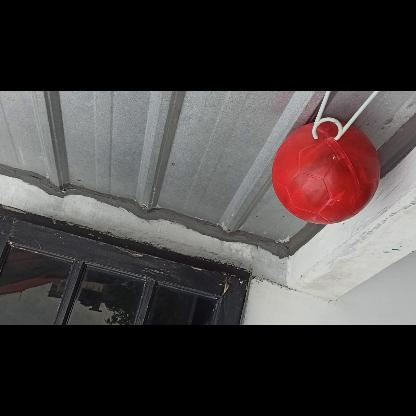red_ball: (271, 120, 377, 226)
